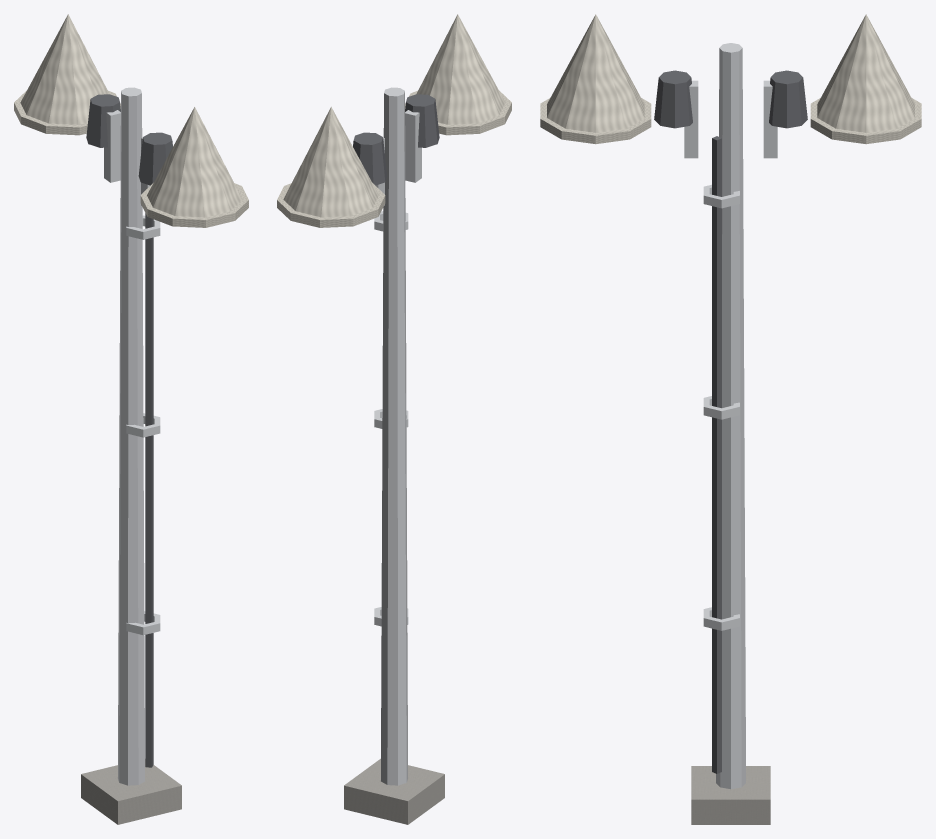
The model's file is indian-bazaar-street-and-temple-speaker-horn-on-pole-4788391b.glb.
3 views of the same model, side by side, from view 1: azimuth 30°, elevation 25°; view 2: azimuth 150°, elevation 25°; view 3: azimuth 270°, elevation 25° (orthographic). The views are drawn at different scales.
Parts seen in each view (by area): view 1: speaker-horn-on-pole-steel, speaker-horn-on-pole-plaster, speaker-horn-on-pole-charcoal, speaker-horn-on-pole-stone; view 2: speaker-horn-on-pole-steel, speaker-horn-on-pole-plaster, speaker-horn-on-pole-stone, speaker-horn-on-pole-charcoal; view 3: speaker-horn-on-pole-steel, speaker-horn-on-pole-plaster, speaker-horn-on-pole-charcoal, speaker-horn-on-pole-stone.
Part boxes in pixels (bbox=[...]): speaker-horn-on-pole-steel: bbox=[104, 87, 160, 785]; speaker-horn-on-pole-plaster: bbox=[14, 14, 248, 227]; speaker-horn-on-pole-charcoal: bbox=[86, 94, 172, 767]; speaker-horn-on-pole-stone: bbox=[81, 759, 181, 824]; speaker-horn-on-pole-steel: bbox=[374, 87, 421, 785]; speaker-horn-on-pole-plaster: bbox=[277, 14, 511, 227]; speaker-horn-on-pole-stone: bbox=[344, 758, 444, 824]; speaker-horn-on-pole-charcoal: bbox=[353, 94, 439, 185]; speaker-horn-on-pole-steel: bbox=[684, 43, 777, 789]; speaker-horn-on-pole-plaster: bbox=[540, 14, 921, 144]; speaker-horn-on-pole-charcoal: bbox=[654, 70, 807, 773]; speaker-horn-on-pole-stone: bbox=[691, 766, 770, 824].
Size of the model in its own units: 0.5 by 3.76 by 1.64.
4 materials, 2 textured.
